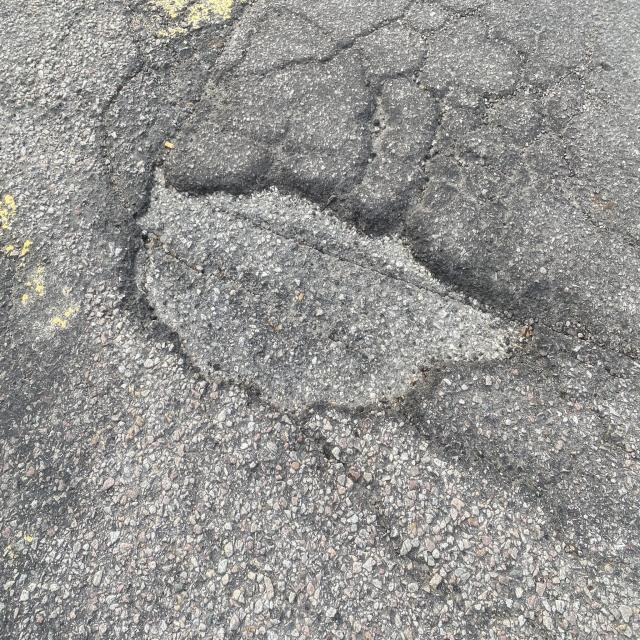Pothole: (105, 124, 592, 476)
